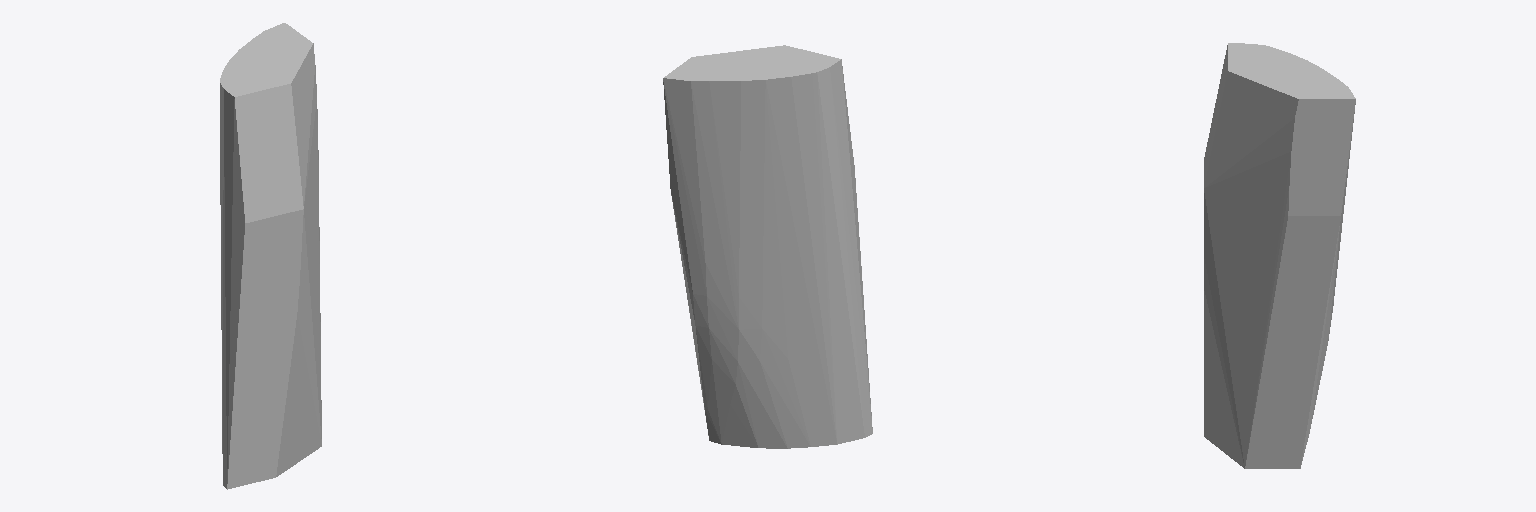
File: phantom-elastrat_collision_400.obj
The picture shows the model from 3 angles: view 1: azimuth 30°, elevation 25°; view 2: azimuth 150°, elevation 25°; view 3: azimuth 270°, elevation 25°; orthographic projection.
Size of the model in its own units: 0.0048 by 0.0131 by 0.0048.